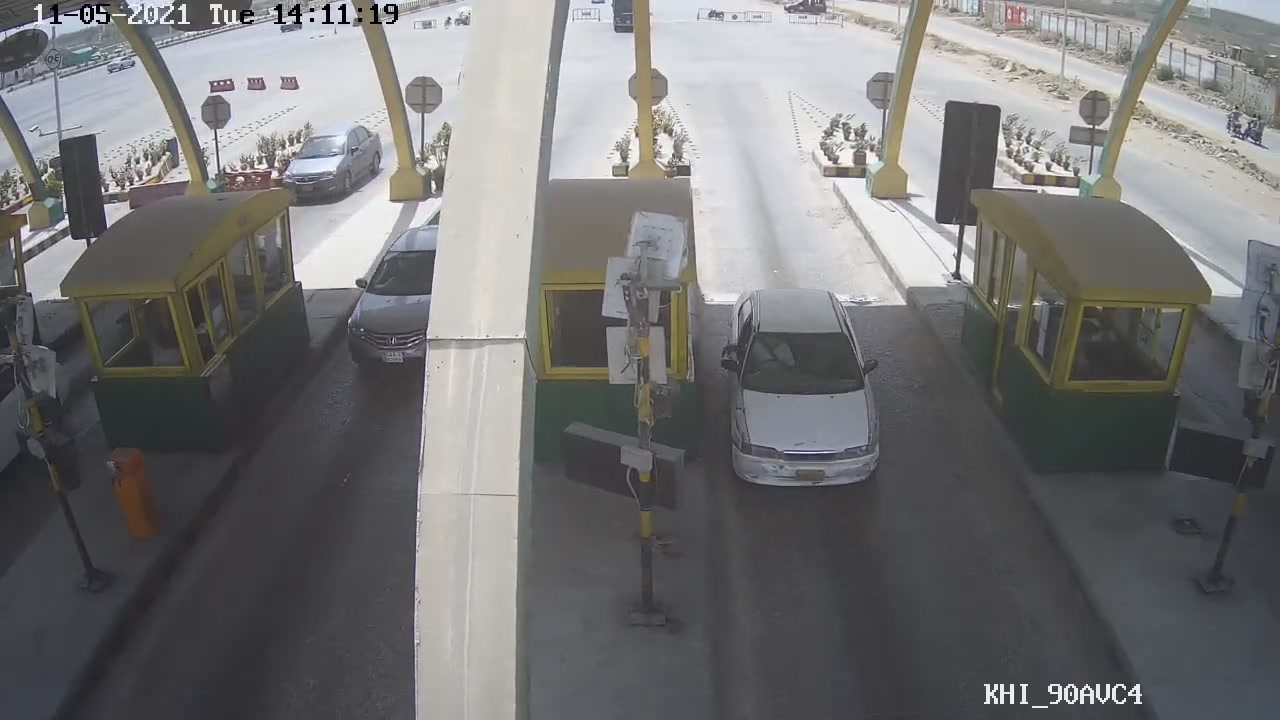F1: (715, 278, 915, 510)
